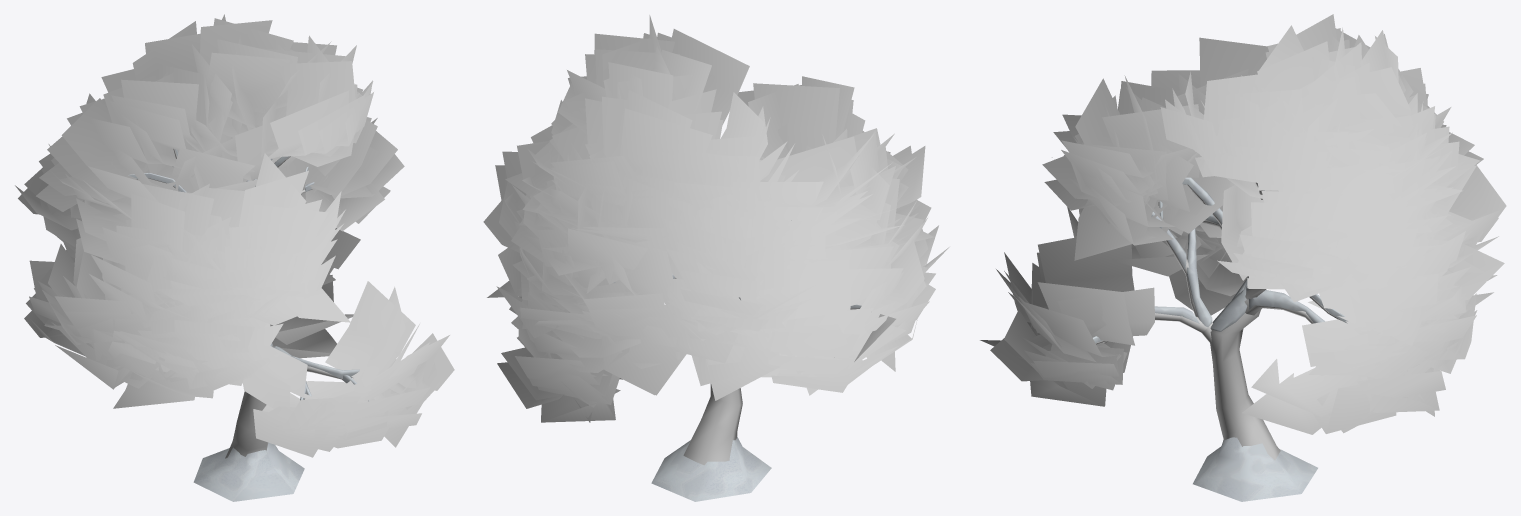
The model's file is Tree_Large_2_Snow.fbx.
The picture shows the model from 3 angles, left to right: view 1: azimuth 30°, elevation 25°; view 2: azimuth 150°, elevation 25°; view 3: azimuth 270°, elevation 25°; orthographic projection. The views are drawn at different scales.
Parts seen in each view (by area): view 1: Tree_Large_2_Snow_LOD0; view 2: Tree_Large_2_Snow_LOD0; view 3: Tree_Large_2_Snow_LOD0.
Boxes of the visible parts, <box> form: Tree_Large_2_Snow_LOD0: <box>15,14,454,501</box>; Tree_Large_2_Snow_LOD0: <box>483,15,949,501</box>; Tree_Large_2_Snow_LOD0: <box>980,14,1506,501</box>.
Size of what is drawn, in the model's own units: 3172 by 3444 by 3687.
